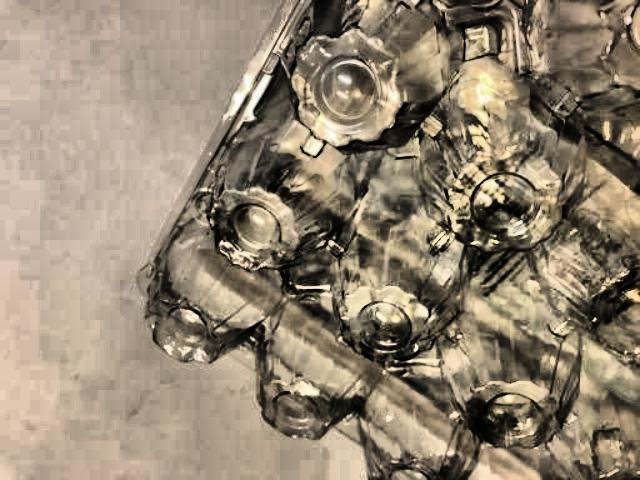Plastic: (137, 1, 640, 480)
